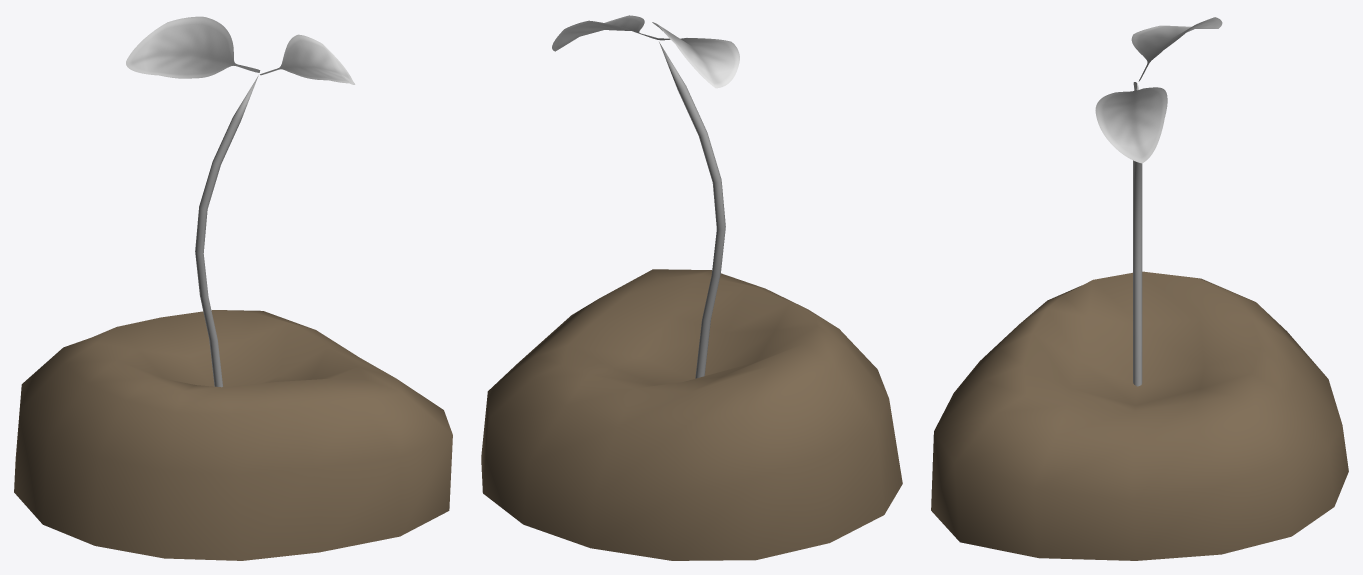
Rendered from Muda_Eucalyptus.fbx.
The picture shows the model from 3 angles, left to right: view 1: azimuth 30°, elevation 25°; view 2: azimuth 150°, elevation 25°; view 3: azimuth 270°, elevation 25°; orthographic projection. The views are drawn at different scales.
Parts seen in each view (by area): view 1: Terra1, Folha, Caule; view 2: Terra1, Folha, Caule; view 3: Terra1, Folha, Caule.
Part boxes in pixels (x1,y1,x2,y2): Terra1: (14,310,452,560); Folha: (126,16,355,84); Caule: (195,75,258,387); Terra1: (481,269,902,560); Folha: (552,15,739,88); Caule: (659,42,725,378); Terra1: (931,271,1348,560); Folha: (1095,17,1222,163); Caule: (1133,83,1142,386).
Size of the model in its own units: 51.26 by 60.93 by 50.78.
